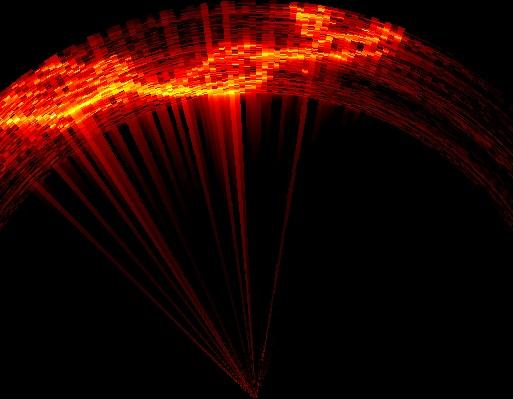shipwreck: (0, 6, 403, 132)
